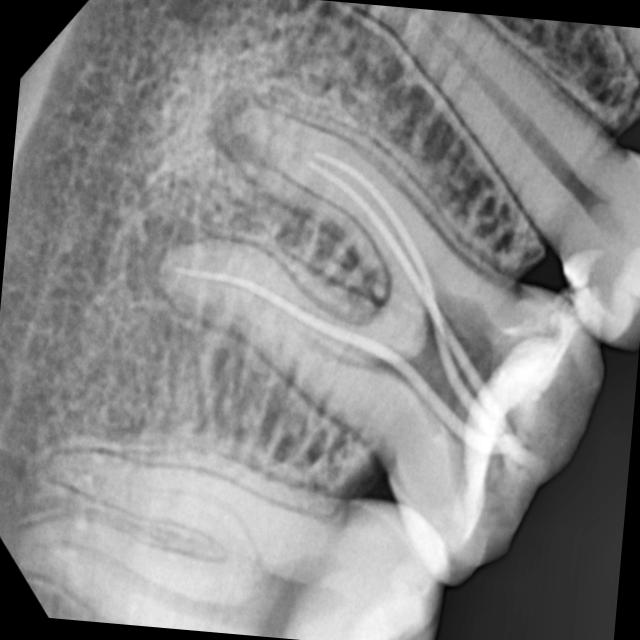RCT: (156, 105, 512, 432)
